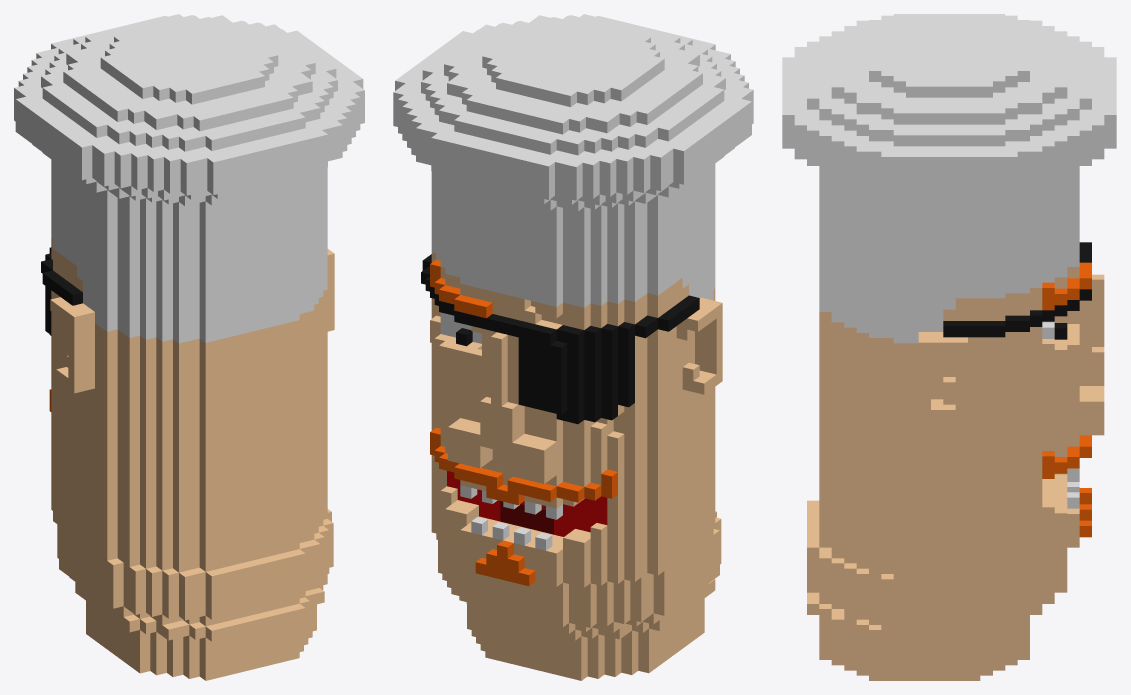
The model's file is chef2head.obj.
The picture shows the model from 3 angles, left to right: view 1: azimuth 30°, elevation 25°; view 2: azimuth 150°, elevation 25°; view 3: azimuth 270°, elevation 25°; orthographic projection. The views are drawn at different scales.
Size of the model in its own units: 27 by 52 by 27.
1 material, 1 textured.
